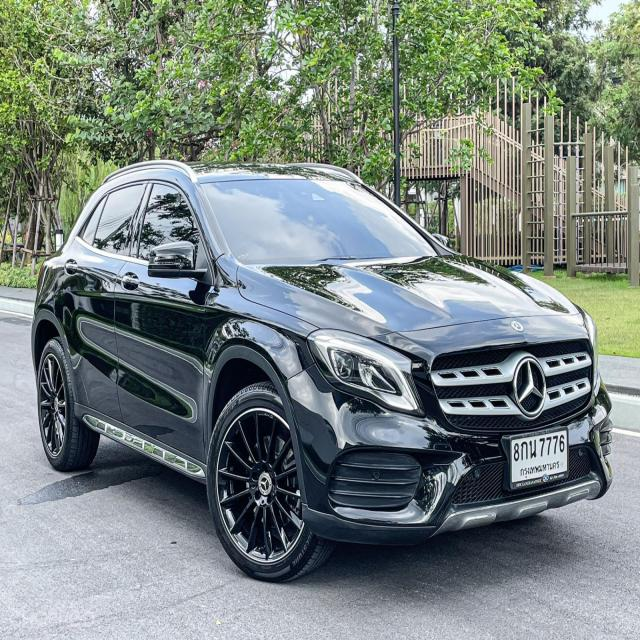license_plate: (503, 427, 571, 492)
